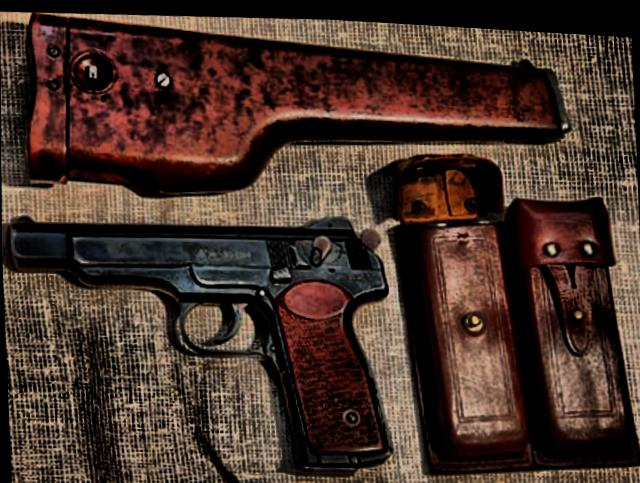pistol: (8, 197, 398, 482)
